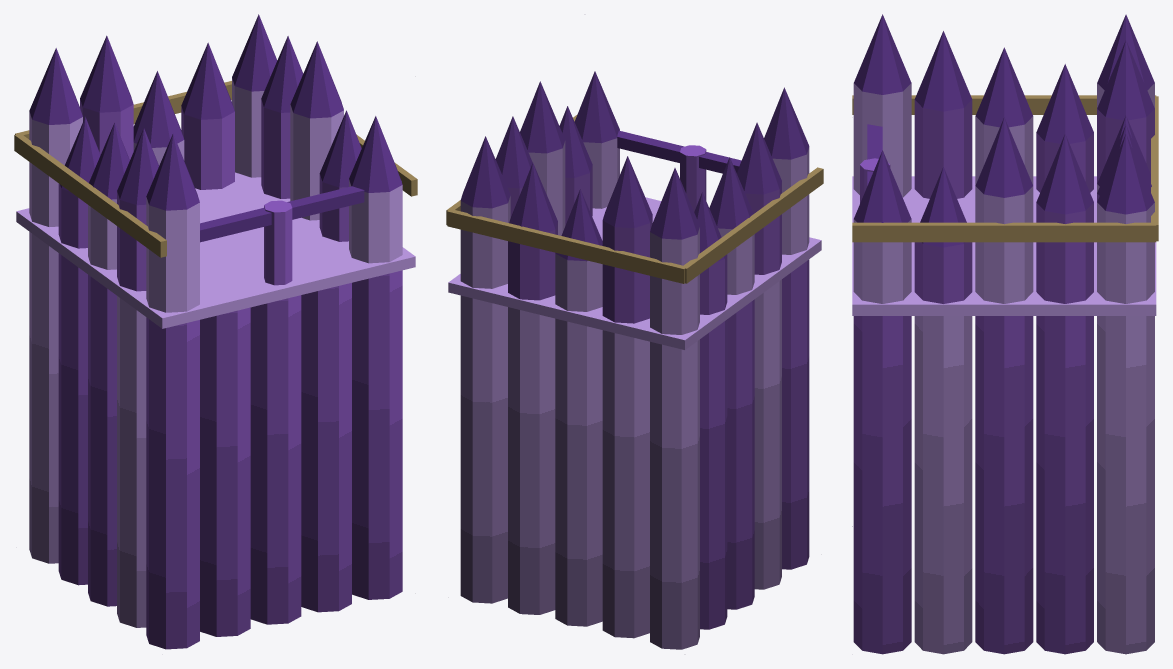
Rendered from perimeter_wall_crystal.glb.
3 views of the same model, side by side, from view 1: azimuth 30°, elevation 25°; view 2: azimuth 150°, elevation 25°; view 3: azimuth 270°, elevation 25° (orthographic). The views are drawn at different scales.
Bounding box in the file's own units: 2.03 × 3.9 × 2.01.
1 material, 1 textured.
